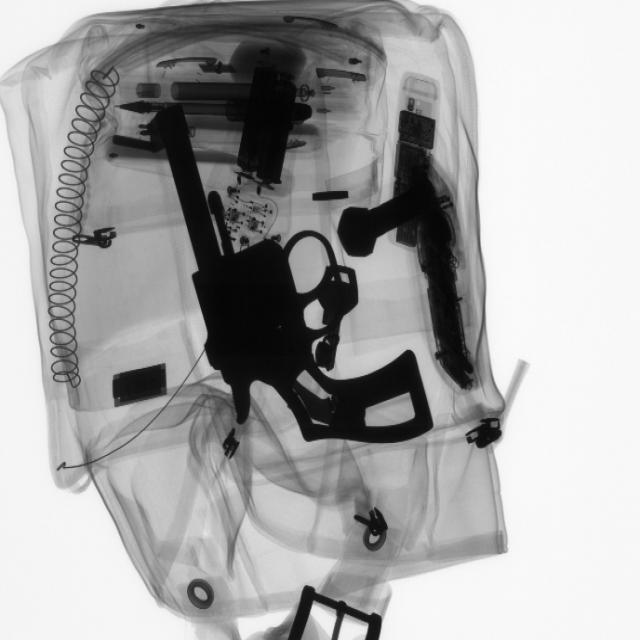GUN: (147, 105, 441, 458)
